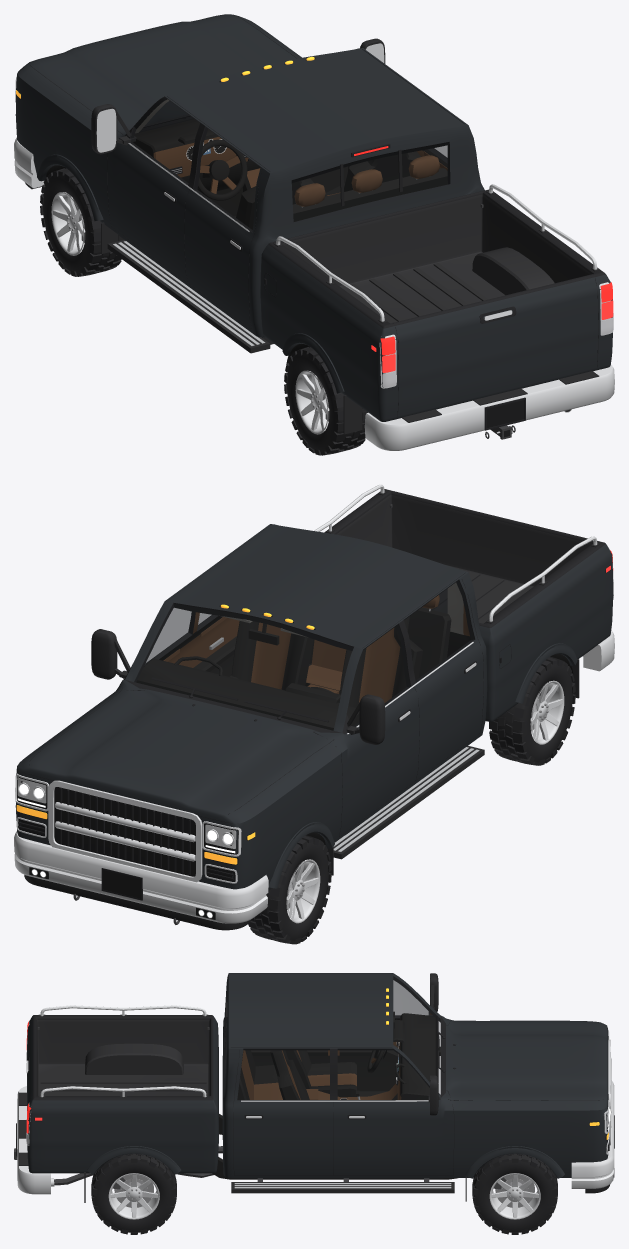
File: hauler_2500.glb
3 renders of one model, top to bottom at view 1: azimuth 30°, elevation 25°; view 2: azimuth 150°, elevation 25°; view 3: azimuth 270°, elevation 25°, orthographic. The views are drawn at different scales.
Parts seen in each view (by area): view 1: Body, Glass, Interior, Wheel_RL, Wheel_FL, SteeringWheel; view 2: Body, Glass, Interior, Wheel_RL, Wheel_FL; view 3: Body, Glass, Interior, Wheel_RR, Wheel_FR.
Boxes of the visible parts, x1,y1,x2,y2 form: Body: [14, 14, 614, 450]; Glass: [131, 97, 449, 231]; Interior: [133, 99, 447, 229]; Wheel_RL: [284, 346, 367, 455]; Wheel_FL: [40, 168, 123, 276]; SteeringWheel: [197, 139, 247, 200]; Body: [14, 484, 614, 930]; Glass: [135, 580, 474, 730]; Interior: [136, 582, 470, 730]; Wheel_RL: [489, 656, 575, 765]; Wheel_FL: [248, 835, 331, 944]; Body: [14, 973, 614, 1202]; Glass: [225, 977, 439, 1099]; Interior: [237, 1011, 440, 1099]; Wheel_RR: [91, 1153, 176, 1234]; Wheel_FR: [472, 1153, 557, 1234].
Size of the model in its own units: 2.44 by 1.92 by 5.6.
